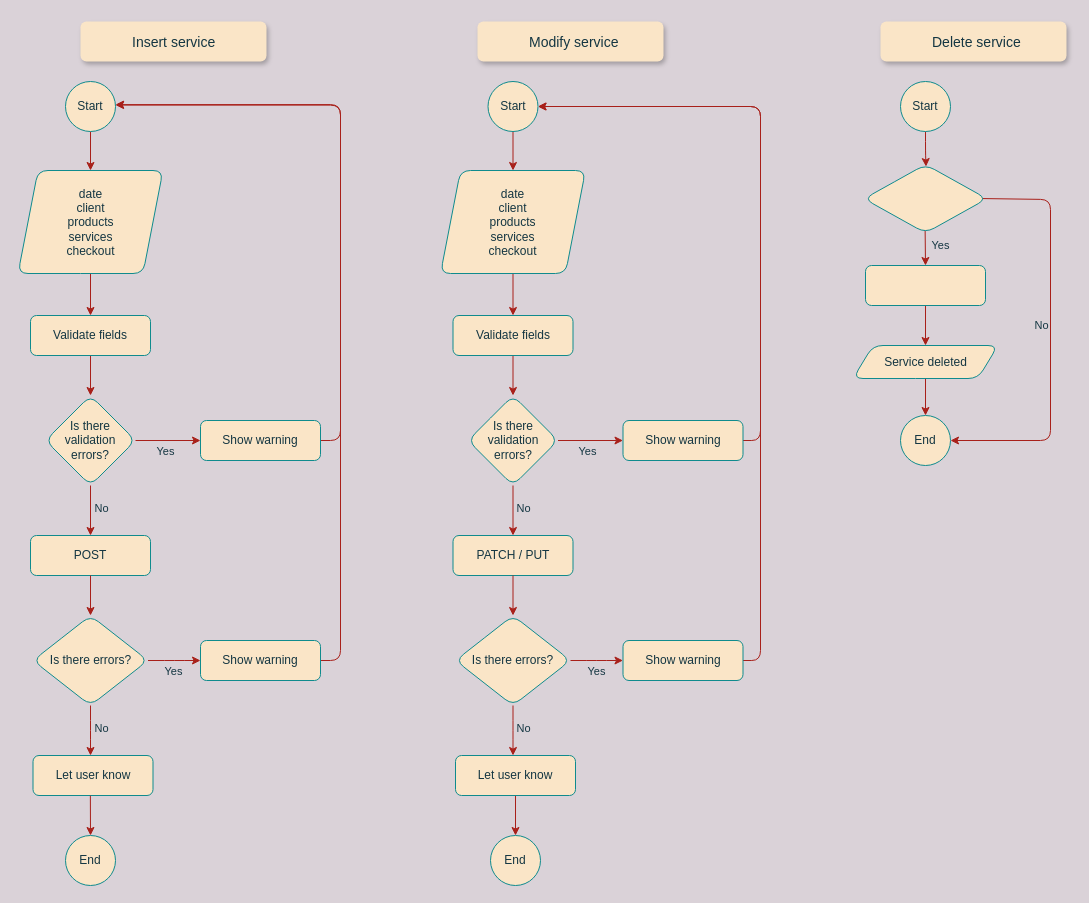
Image size: 1089x903. Some labels were removed from this diagram. Each missing label, with the centre of its shape:
"DELETE" belongs at point (925, 285).
"Delete service?" belongs at point (925, 198).
